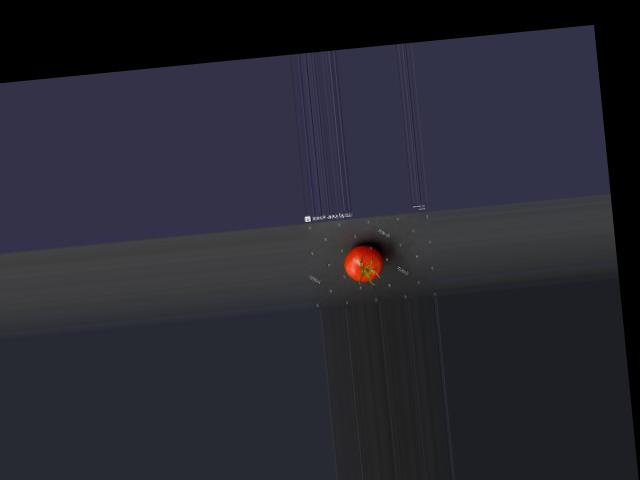tomato: (343, 244, 385, 283)
